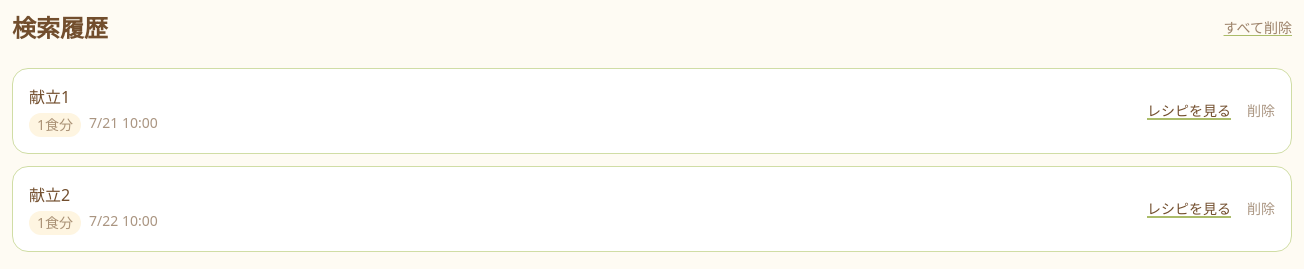
Test: 履歴画面 › 1件削除できる
The image size is (1304, 269).
Click the button "削除" in the row of "献立1". click: (1261, 111)
box: [1247, 101, 1275, 121]
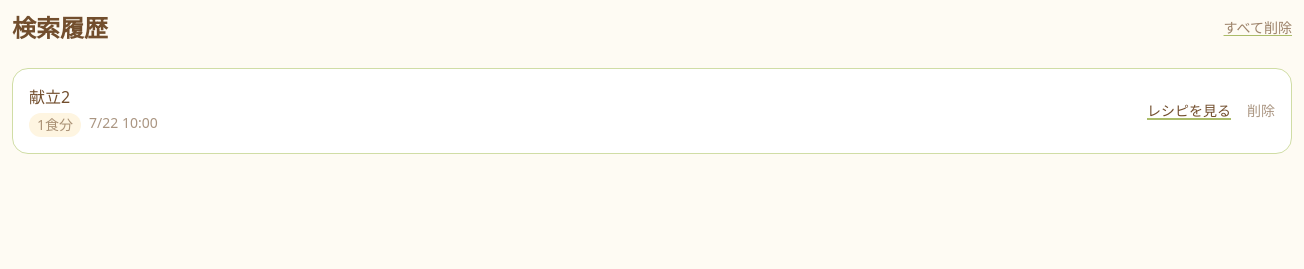
Expected: the text "献立2" is shown, [29, 86, 70, 108]
Result: the text "献立1" is gone
